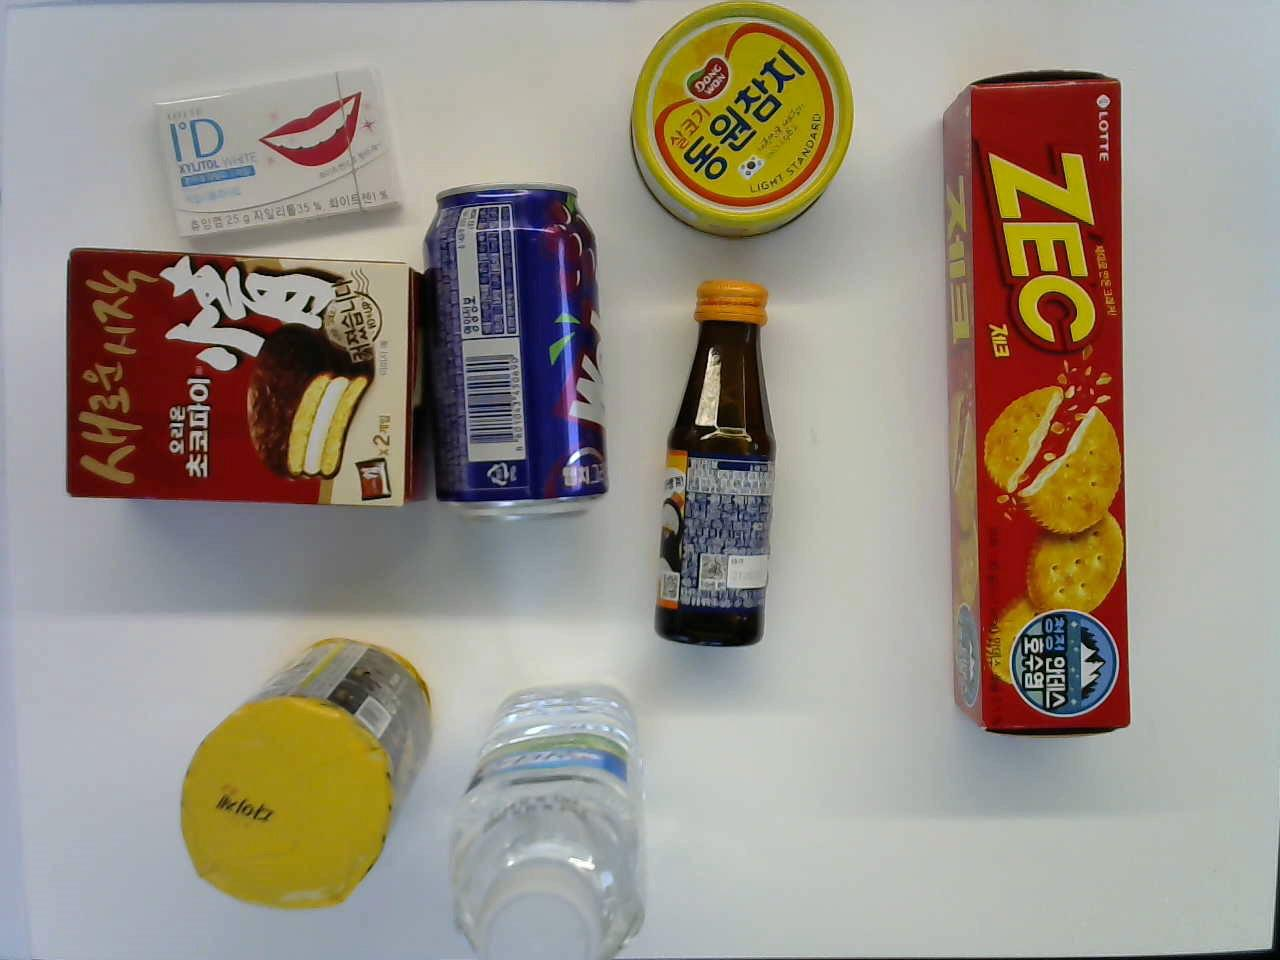ID_gum: (142, 62, 409, 245)
chocopie: (65, 242, 435, 514)
diget_choco: (177, 635, 433, 910)
samdasu: (443, 679, 647, 957)
tuna: (623, 2, 863, 241)
vita500: (650, 271, 781, 653)
welchs: (423, 178, 611, 518)
zec: (945, 65, 1138, 737)
